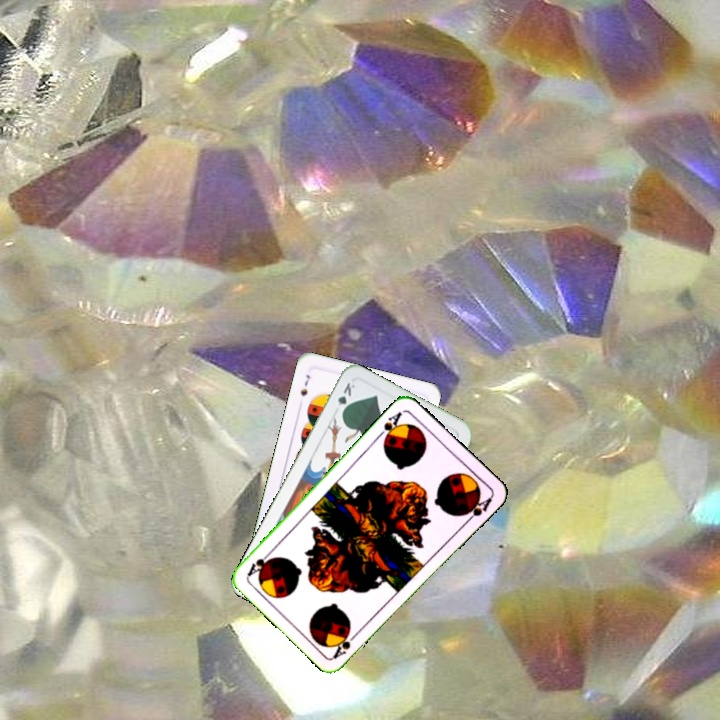GK: (334, 378, 358, 417)
S7: (296, 371, 313, 399)
SA: (373, 407, 405, 445), (329, 627, 362, 661)
